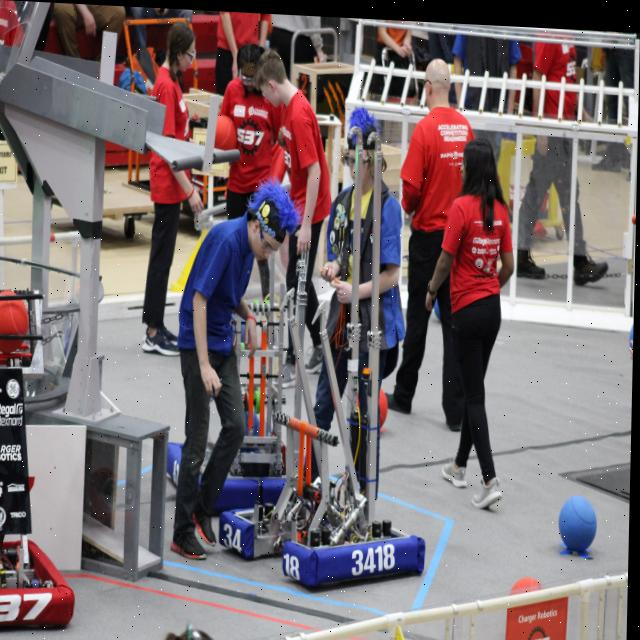robot: (218, 130, 435, 589), (163, 265, 308, 502), (0, 281, 85, 633)
